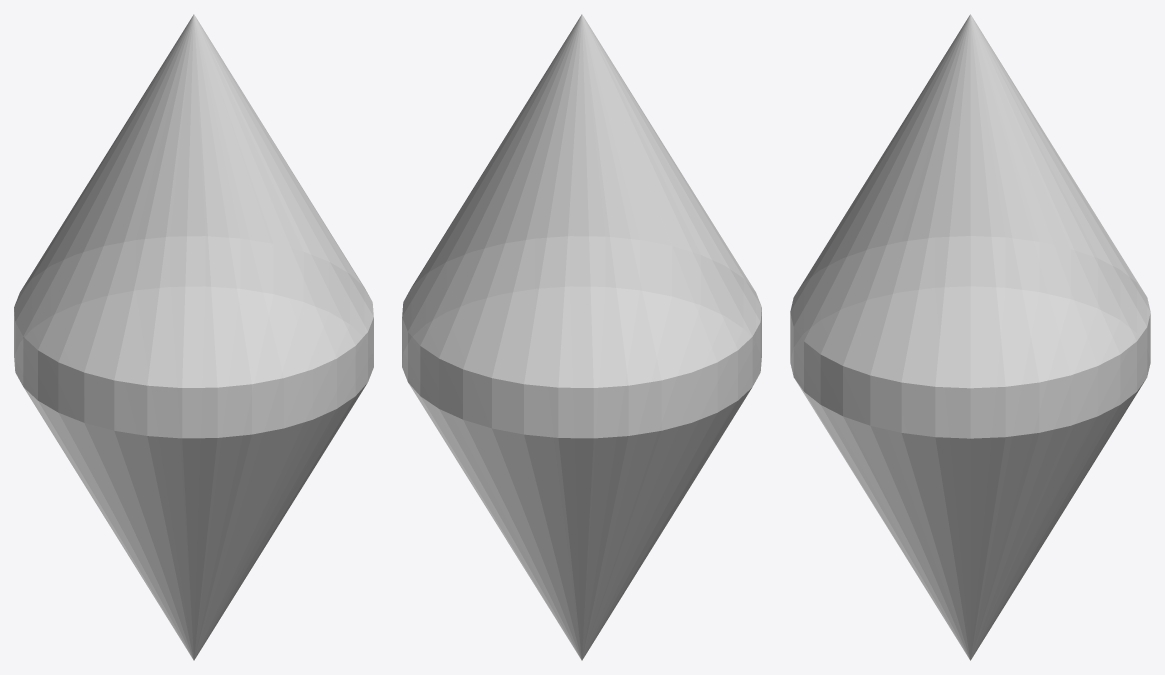
File: Crystal.fbx
3 renders of one model, left to right at view 1: azimuth 30°, elevation 25°; view 2: azimuth 150°, elevation 25°; view 3: azimuth 270°, elevation 25°, orthographic.
Parts seen in each view (by area): view 1: Diamond; view 2: Diamond; view 3: Diamond.
Part boxes in pixels (bbox=[...]): Diamond: bbox=[14, 14, 373, 660]; Diamond: bbox=[402, 14, 761, 660]; Diamond: bbox=[790, 14, 1150, 660].
Size of the model in its own units: 109 by 216 by 109.
1 material, 1 textured.
